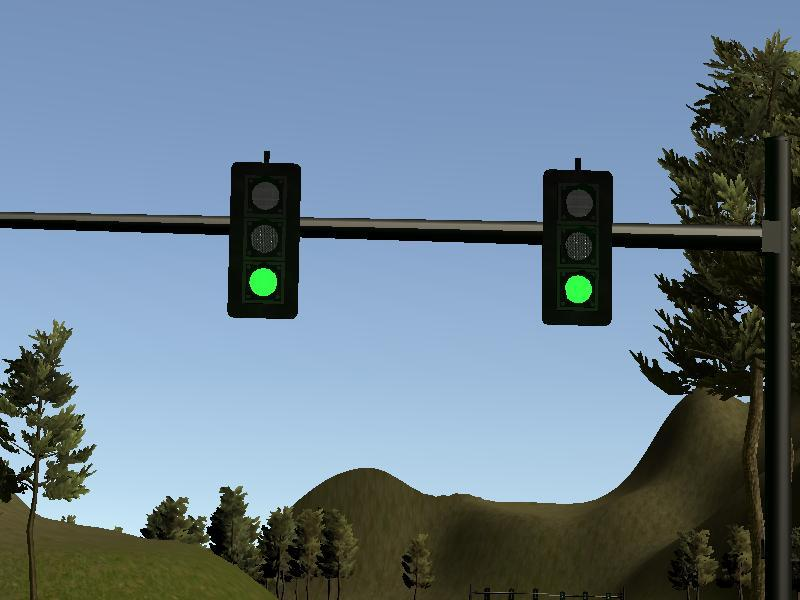Green: (229, 163, 298, 320), (542, 170, 611, 327)
